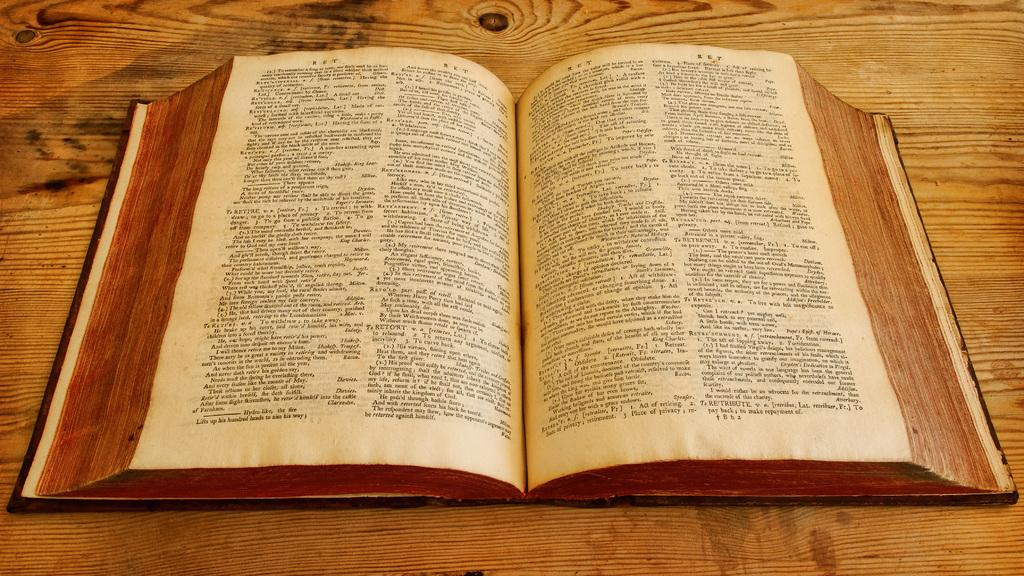Book: (5, 45, 1023, 512)
